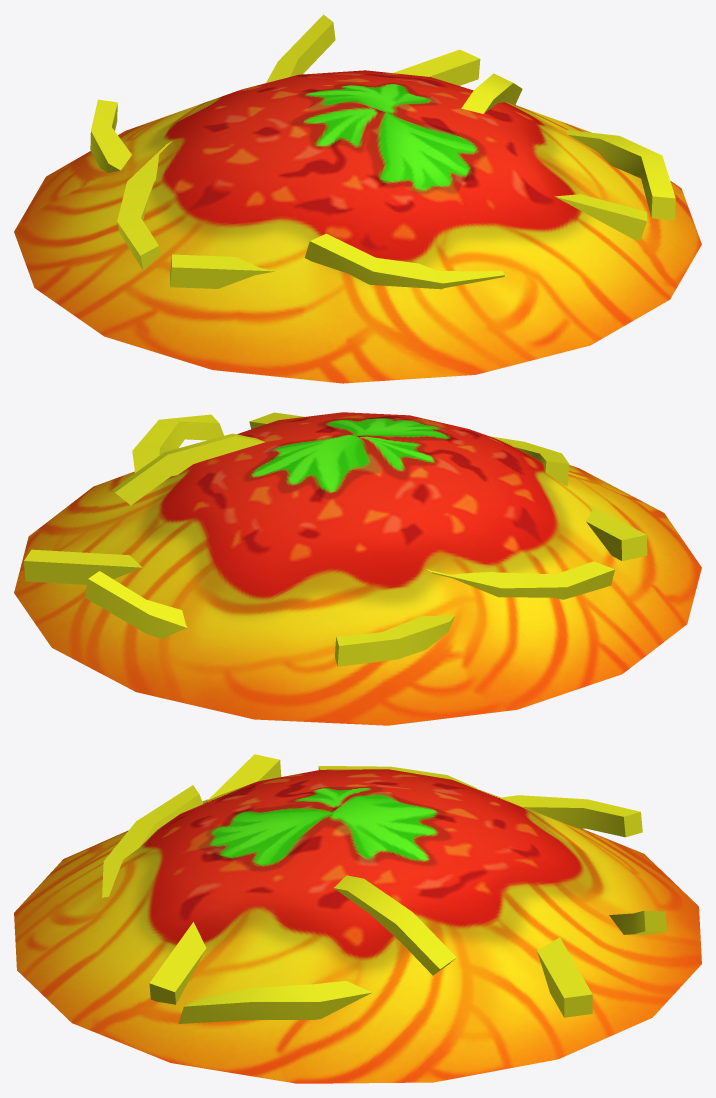
The model's file is pasta1.FBX.
3 views of the same model, one above another, from view 1: azimuth 30°, elevation 25°; view 2: azimuth 150°, elevation 25°; view 3: azimuth 270°, elevation 25° (orthographic).
Parts seen in each view (by area): view 1: pasta; view 2: pasta; view 3: pasta.
Boxes of the visible parts, x1,y1,x2,y2 form: pasta: [14, 14, 701, 383]; pasta: [14, 412, 701, 725]; pasta: [14, 754, 701, 1083].
Bounding box in the file's own units: 1.54 × 0.369 × 1.54.
